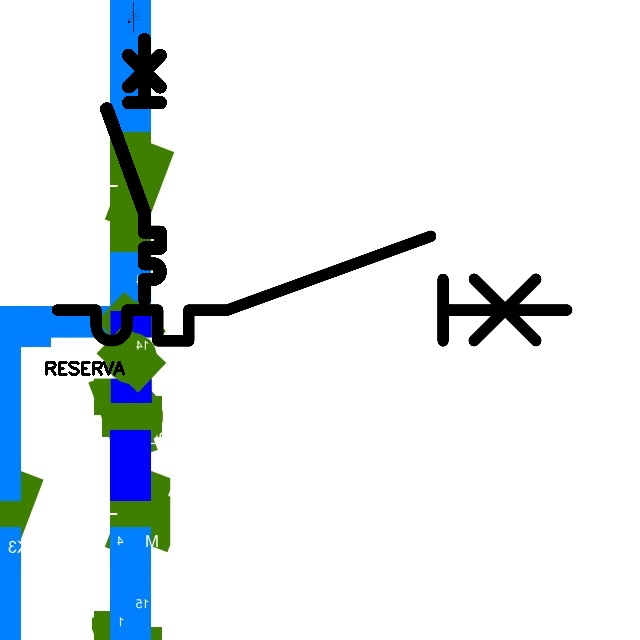interruptor_termomagnetico: (44, 223, 580, 354), (100, 32, 167, 305)
